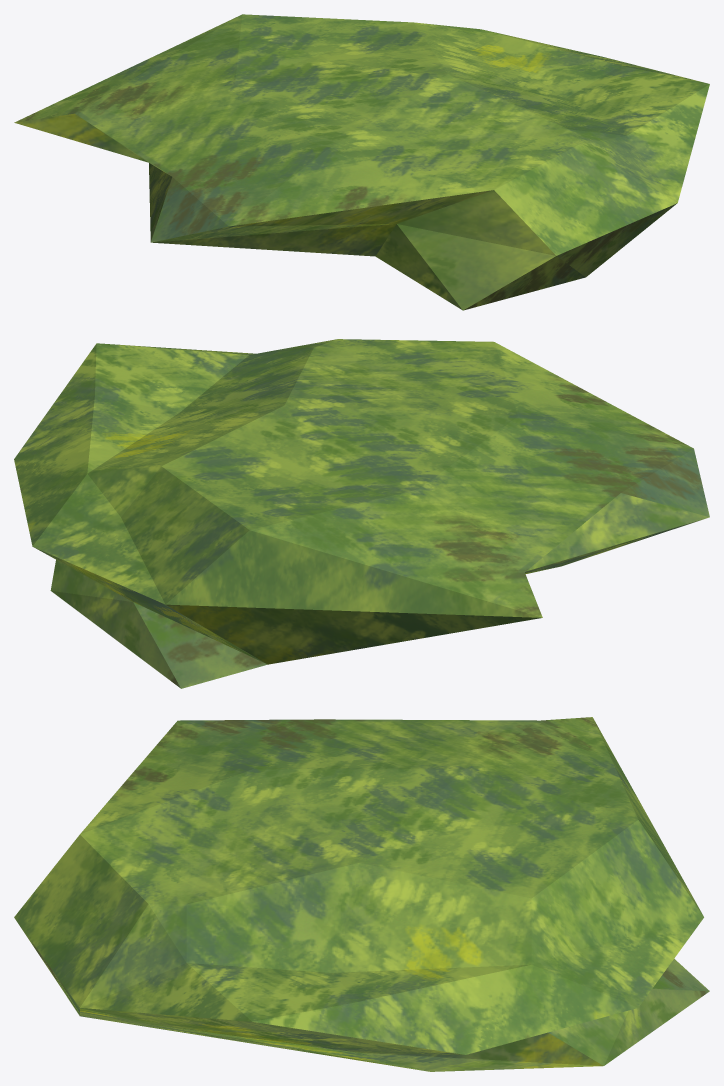
File: foliage6.glb
3 renders of one model, top to bottom at view 1: azimuth 30°, elevation 25°; view 2: azimuth 150°, elevation 25°; view 3: azimuth 270°, elevation 25°, orthographic. The views are drawn at different scales.
Parts seen in each view (by area): view 1: foliage6; view 2: foliage6; view 3: foliage6.
Boxes of the visible parts, x1,y1,x2,y2 form: foliage6: (14, 14, 709, 310); foliage6: (14, 339, 709, 688); foliage6: (14, 717, 709, 1071).
Size of the model in its own units: 15.43 by 3.7 by 14.14.
1 material, 1 textured.
